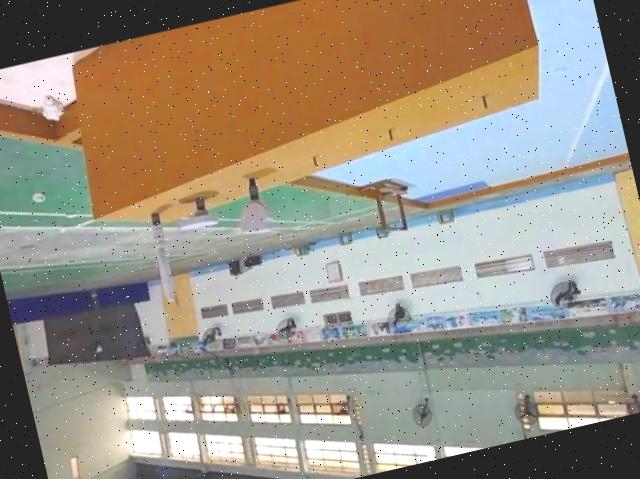Fist: (229, 174, 277, 240)
Hand: (174, 195, 218, 236)
Sph: (141, 207, 183, 303)
